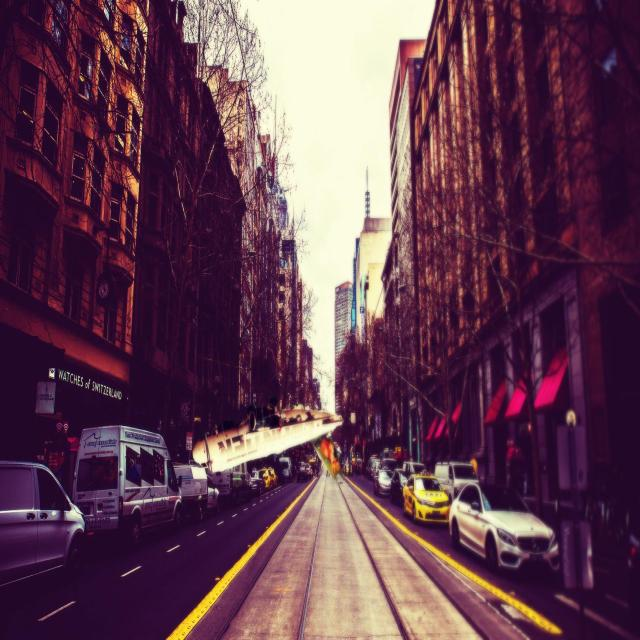airplane: (191, 399, 344, 476)
